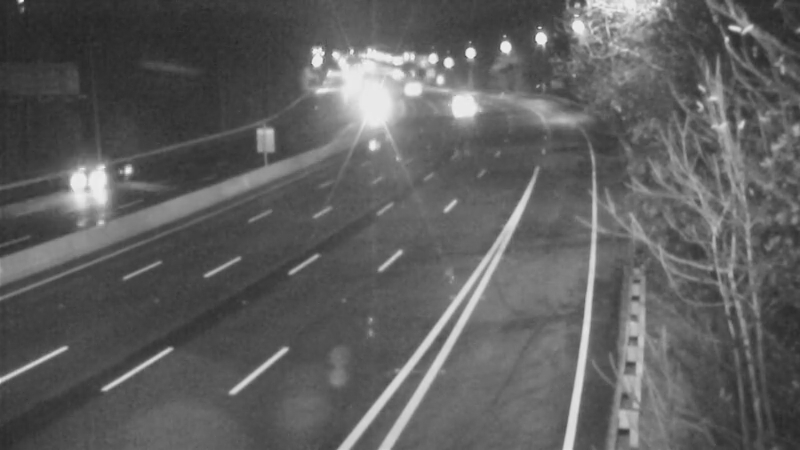vehicle: (40, 140, 120, 220), (387, 64, 437, 114), (429, 72, 479, 122), (436, 82, 486, 132)
